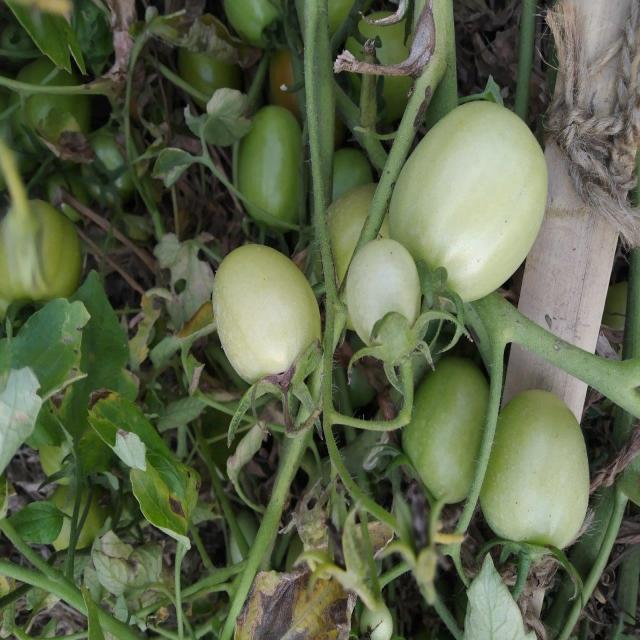Unripe: (387, 100, 546, 301), (482, 388, 593, 562), (212, 243, 323, 396), (345, 236, 422, 356)
